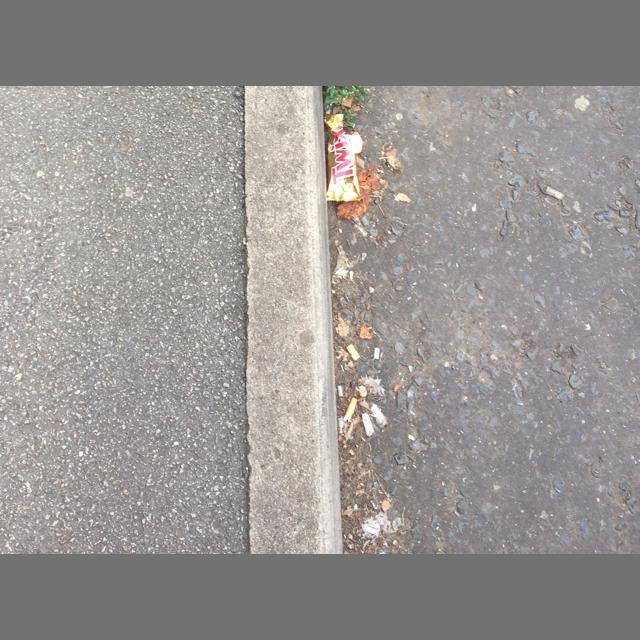litter: (324, 113, 363, 200), (370, 403, 388, 428), (539, 184, 564, 200), (343, 397, 356, 422), (361, 413, 374, 436), (346, 343, 360, 360), (374, 347, 379, 359), (338, 385, 342, 397)
